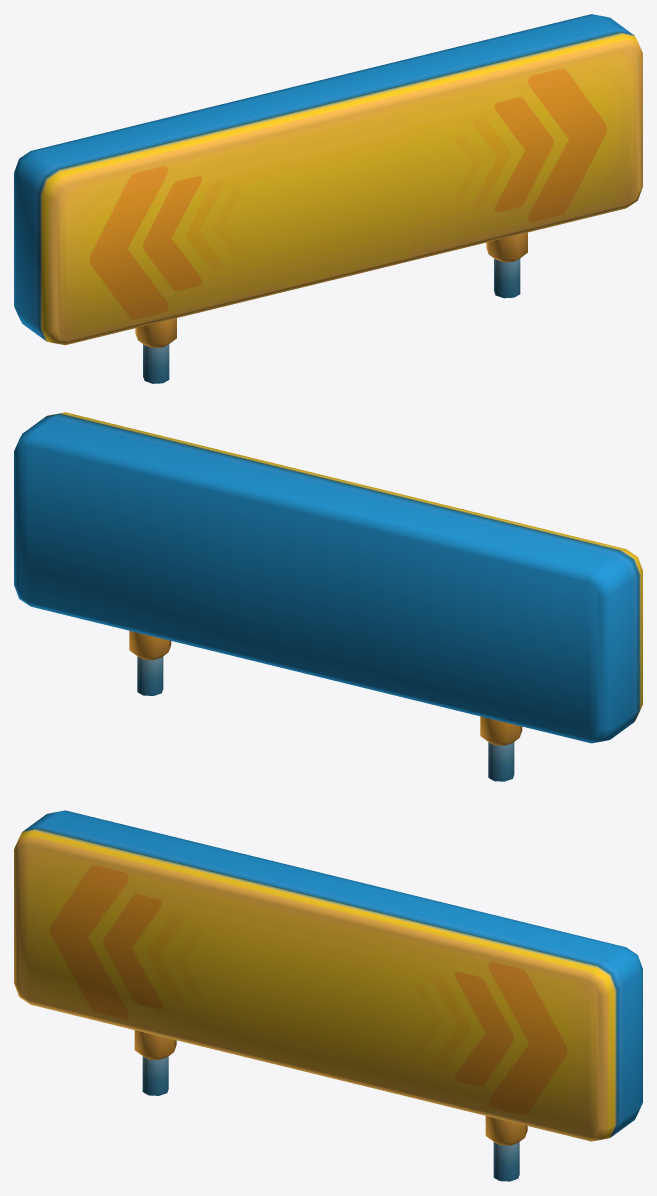
The model's file is deslizado.fbx.
3 renders of one model, top to bottom at view 1: azimuth 30°, elevation 25°; view 2: azimuth 150°, elevation 25°; view 3: azimuth 330°, elevation 25°, orthographic.
Parts seen in each view (by area): view 1: RailObstacleLarge1_RailObstacleMat_0; view 2: RailObstacleLarge1_RailObstacleMat_0; view 3: RailObstacleLarge1_RailObstacleMat_0.
Part boxes in pixels (<box>): RailObstacleLarge1_RailObstacleMat_0: <box>14,14,642,383</box>; RailObstacleLarge1_RailObstacleMat_0: <box>14,412,642,781</box>; RailObstacleLarge1_RailObstacleMat_0: <box>14,810,642,1181</box>.
Size of the model in its own units: 490 by 190 by 56.18.
1 material, 1 textured.
